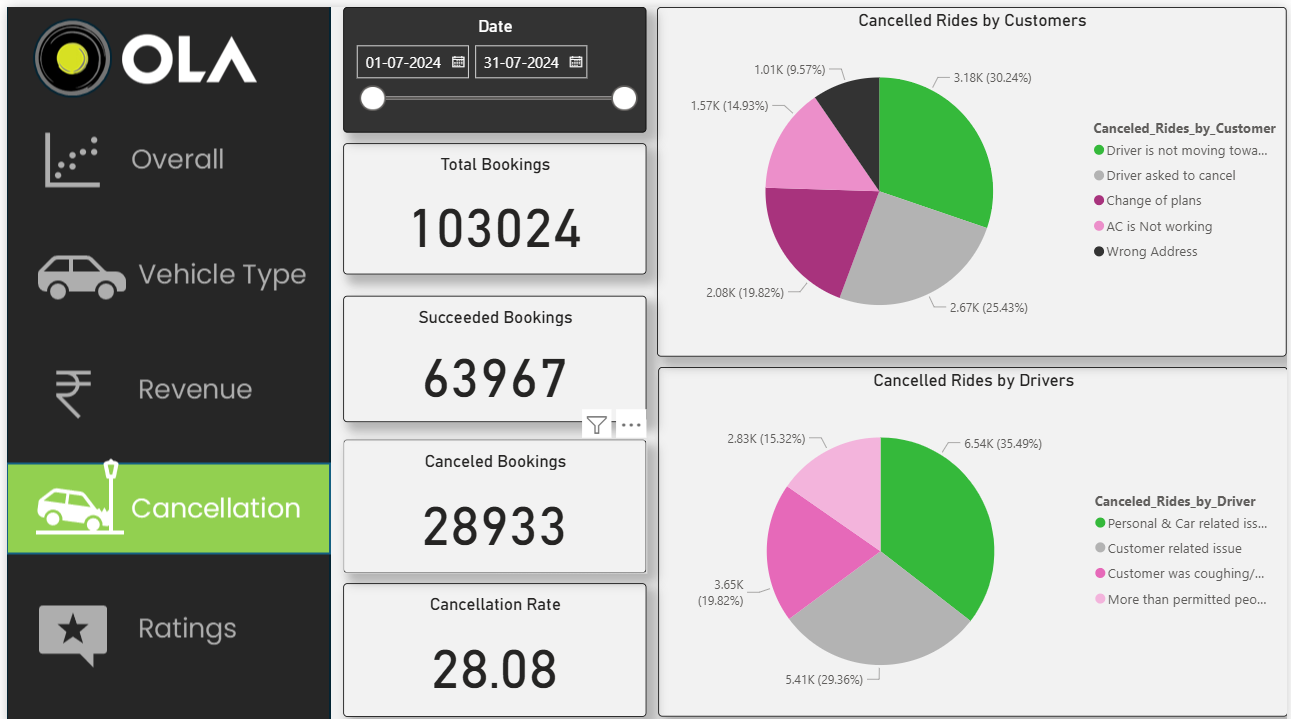

What the dashboard file says about the page in this screenshot:
{"tool":"powerbi","page":{"name":"Cancellation","canvas":[1280,720],"ordinal":3},"visuals":[{"type":"actionButton","box":[0,220.8,325.7,92.9],"z":0},{"type":"actionButton","box":[0,339,325.7,92.9],"z":1000},{"type":"actionButton","box":[0,575.5,325.7,92.9],"z":2000},{"type":"actionButton","box":[0,106.2,325.7,92.9],"z":3000},{"type":"pieChart","title":"Cancelled Rides by Customers","fields":{"Category":["July.Canceled_Rides_by_Customer"],"Y":["CountNonNull(July.Booking_Status)"]},"box":[650.4,0,629.6,349.3],"z":4000},{"type":"pieChart","title":"Cancelled Rides by Drivers","fields":{"Category":["July.Canceled_Rides_by_Driver"],"Y":["CountNonNull(July.Canceled_Rides_by_Driver)"]},"box":[650.7,360.6,629.6,349.3],"z":5000},{"type":"slicer","title":"Date","fields":{"Values":["July.Date"]},"box":[336.6,0,302.8,125.4],"z":6000},{"type":"card","title":"Total Bookings","fields":{"Values":["Count(July.Booking_ID)"]},"box":[336.6,136.6,302.8,131],"z":7000},{"type":"card","title":"Succeeded Bookings","fields":{"Values":["Count(July.Booking_ID)"]},"box":[336.6,288.7,302.8,126.8],"z":8000},{"type":"card","title":"Canceled Bookings","fields":{"Values":["Count(July.Booking_ID)"]},"box":[336.6,432.4,302.8,133.8],"z":9000},{"type":"card","title":"Cancellation Rate","fields":{"Values":["July.CanceledPercentage"]},"box":[336.6,576.1,302.8,133.8],"z":10000}]}

Visuals, with their boxes on the page's 1280x720 design canvas (x1, y1, x2, y2). These are canvas units, not pixel positions in the 1291x719 screenshot, which may show the page scaled, cropped or inside an application window:
actionButton: 0/221/326/314
actionButton: 0/339/326/432
actionButton: 0/576/326/668
actionButton: 0/106/326/199
"Cancelled Rides by Customers" pieChart: 650/0/1280/349
"Cancelled Rides by Drivers" pieChart: 651/361/1280/710
"Date" slicer: 337/0/639/125
"Total Bookings" card: 337/137/639/268
"Succeeded Bookings" card: 337/289/639/416
"Canceled Bookings" card: 337/432/639/566
"Cancellation Rate" card: 337/576/639/710
